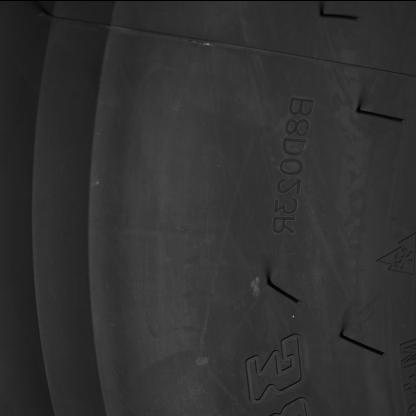ocr: (270, 94, 318, 236)
